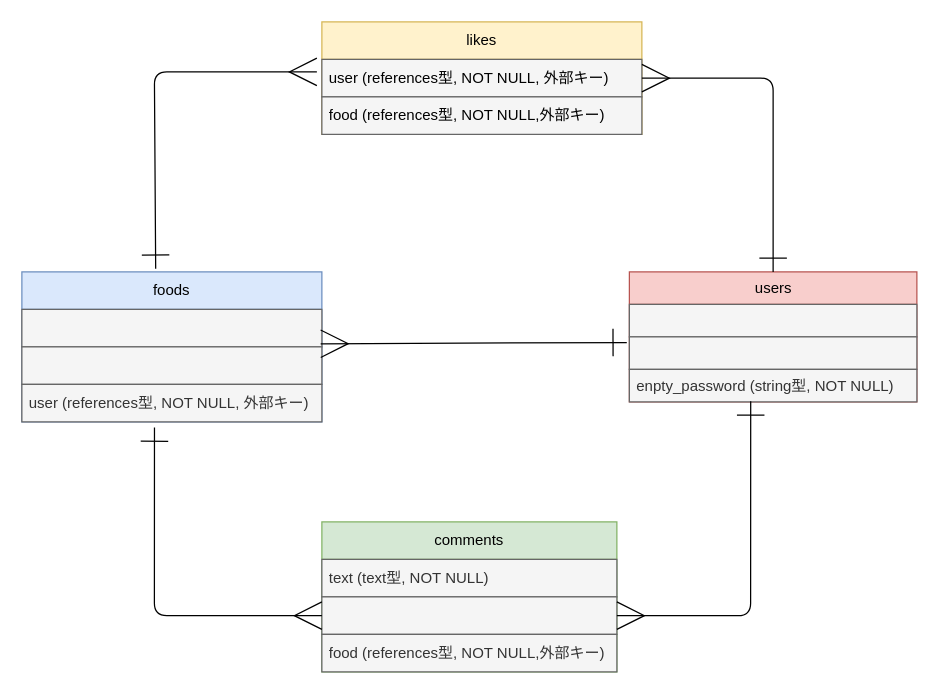
The diagram is 939 pixels wide and 694 high, and some of its shapes have lost their labels. Each missing label, with the centre of its shape:
content (text型, NOT NULL): (171,365)
email (string型,NOT NULL,ユニーク規約): (772,352)
name (strinjg型, NOT NULL): (171,327)
nickname (string型, NOT NULL): (772,320)
user (references型, NOT NULL,外部キー): (469,615)
